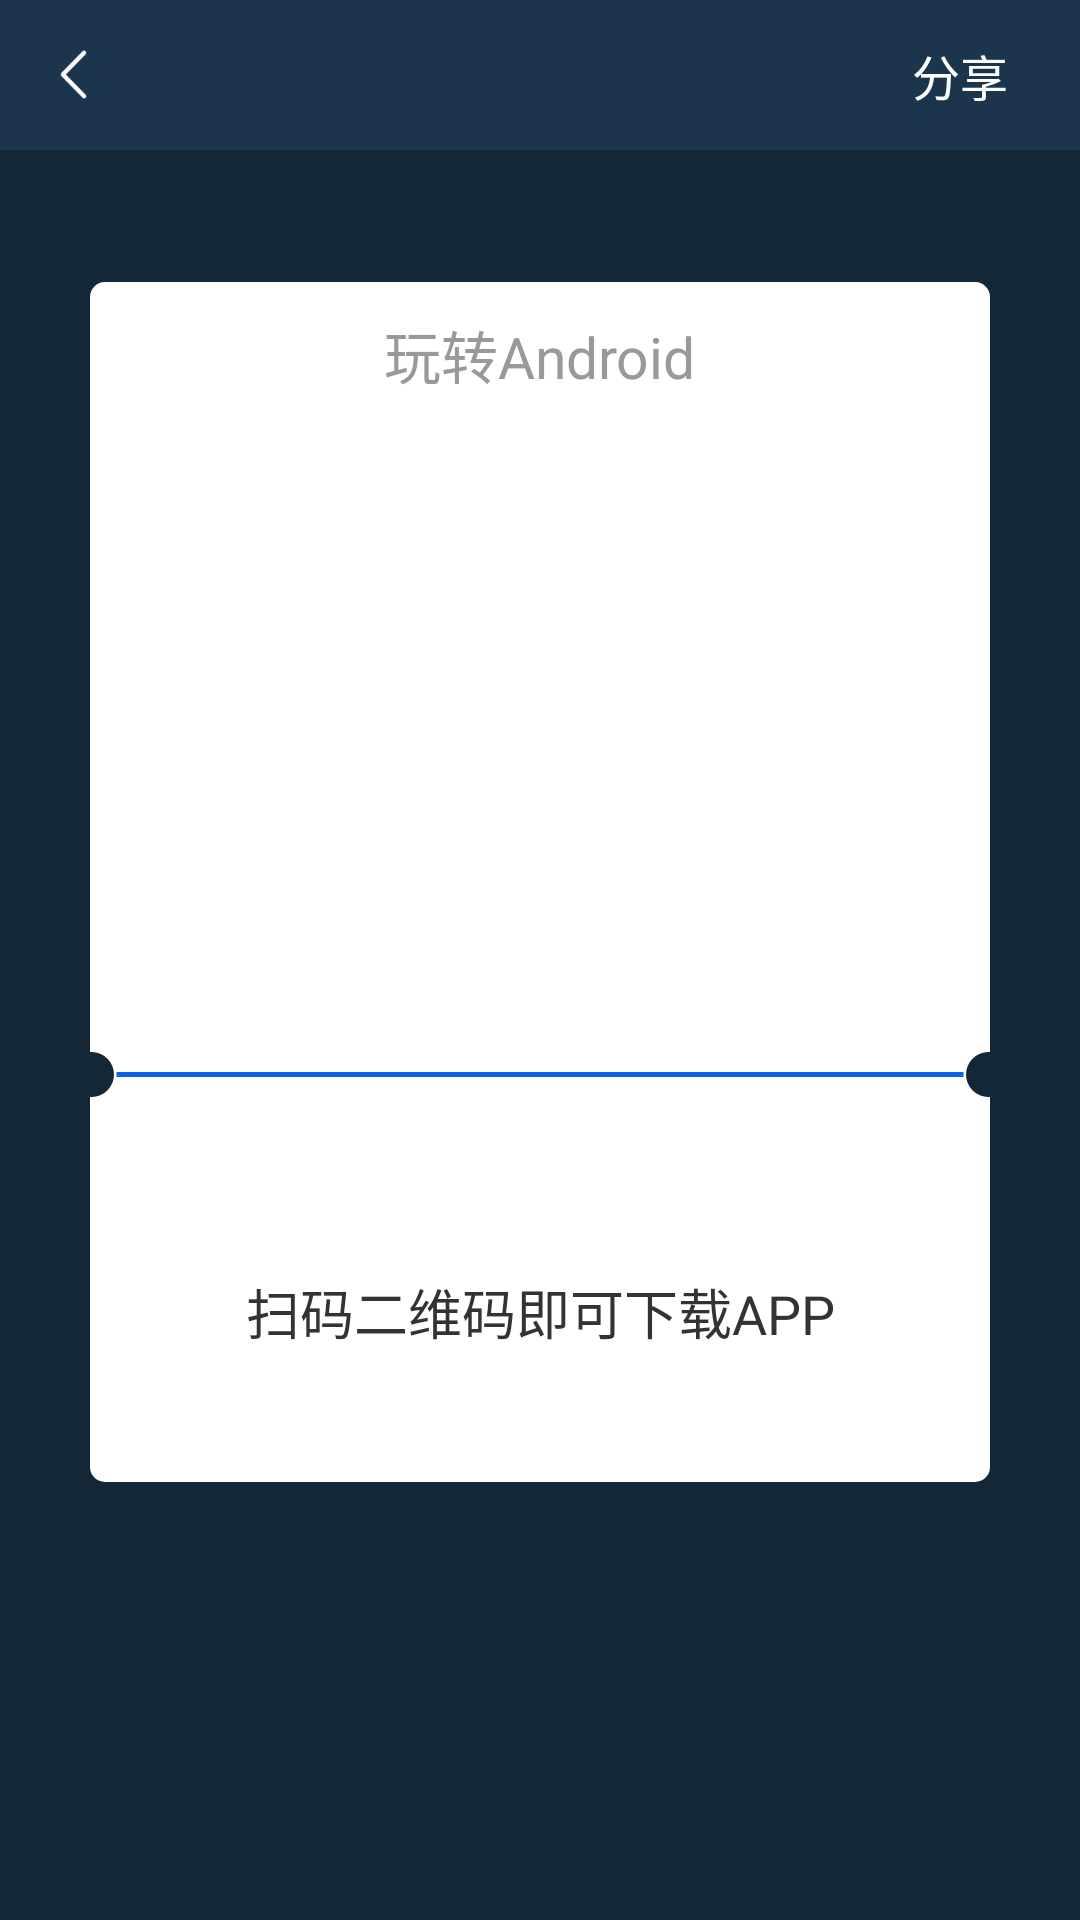

Named icons in this screenshot (1080px×1920px) and their bounding boxes, (x1, y1, x2, y2):
left arrow: (60, 50, 87, 99)
